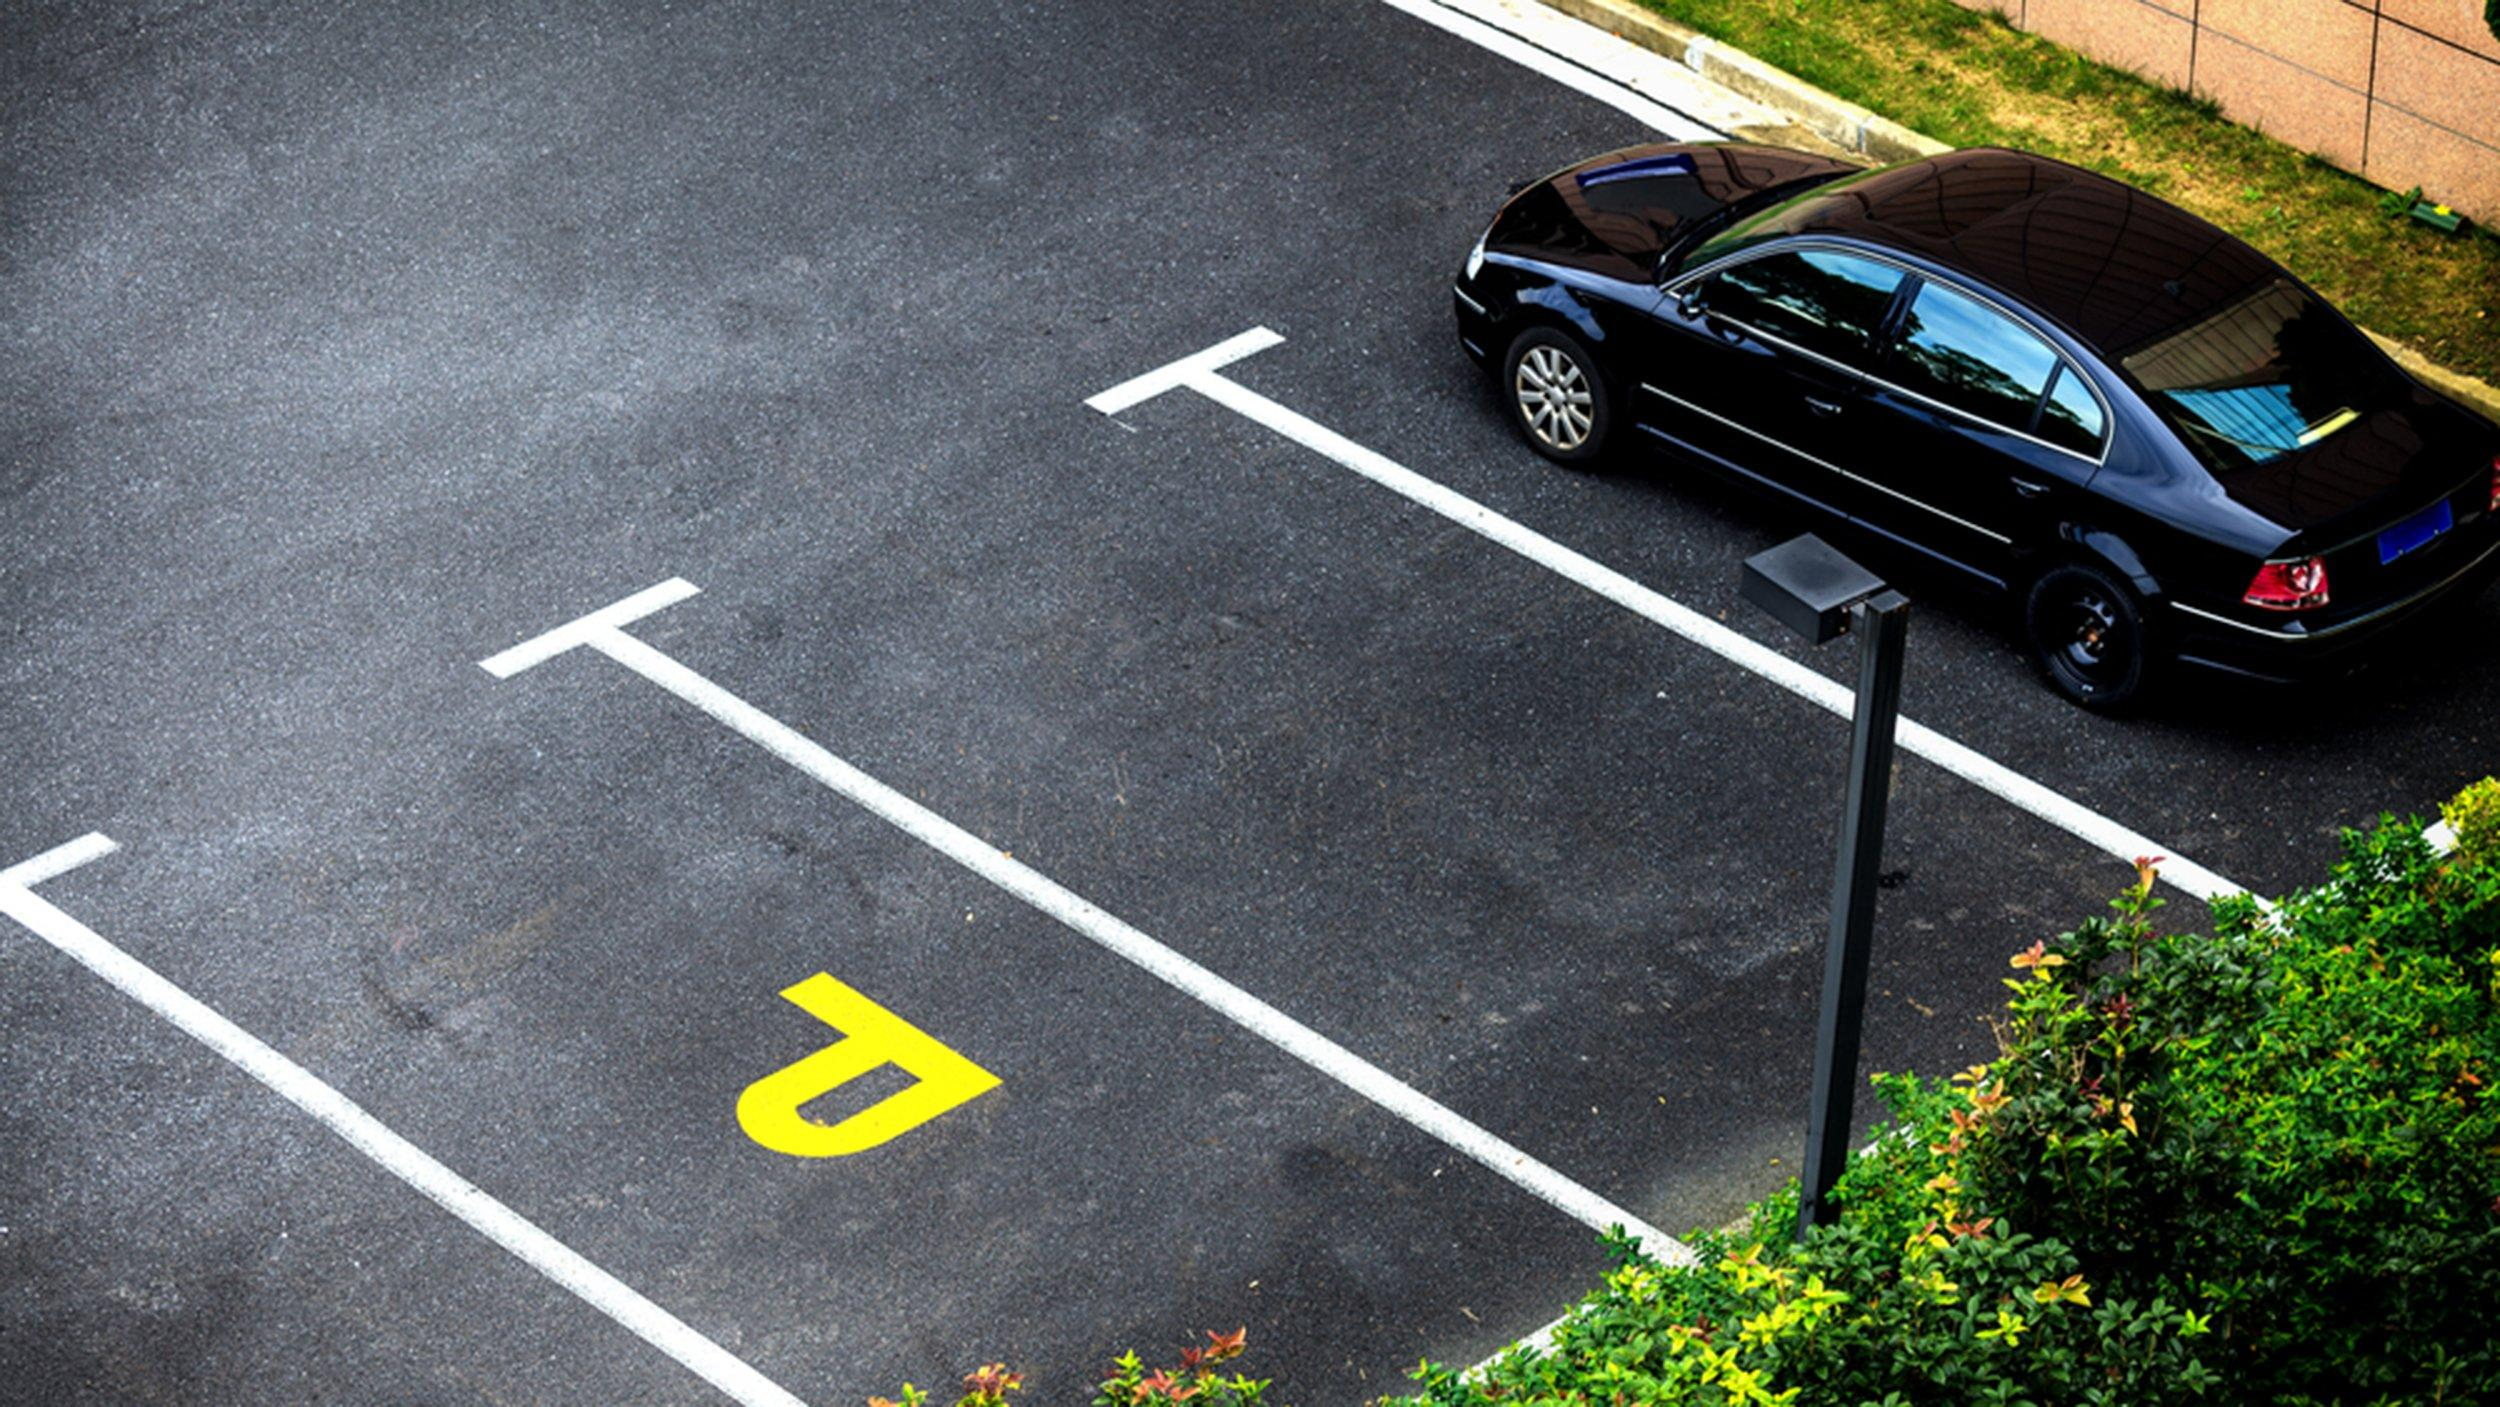empty: (1590, 137, 2500, 744)
occupied: (956, 479, 1648, 943)
